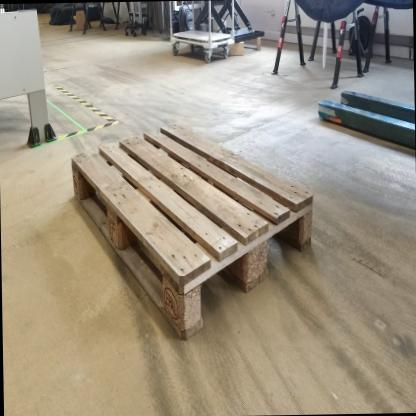BoxFace: (69, 115, 316, 349)
